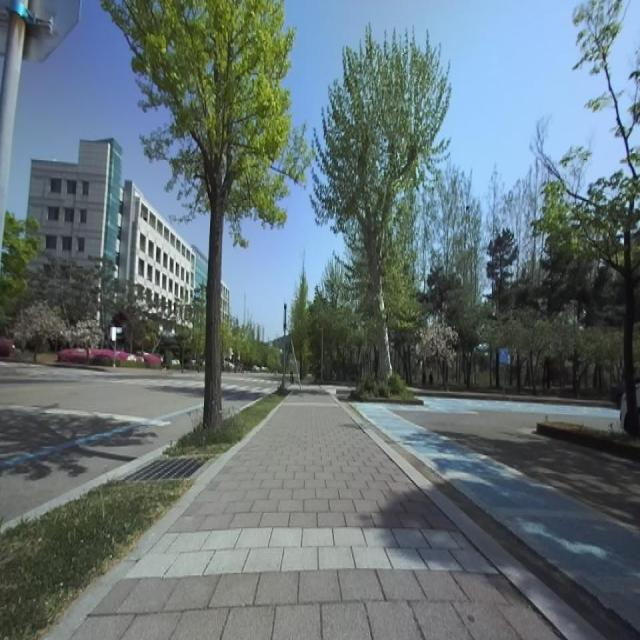sidewalk: (39, 384, 608, 640)
